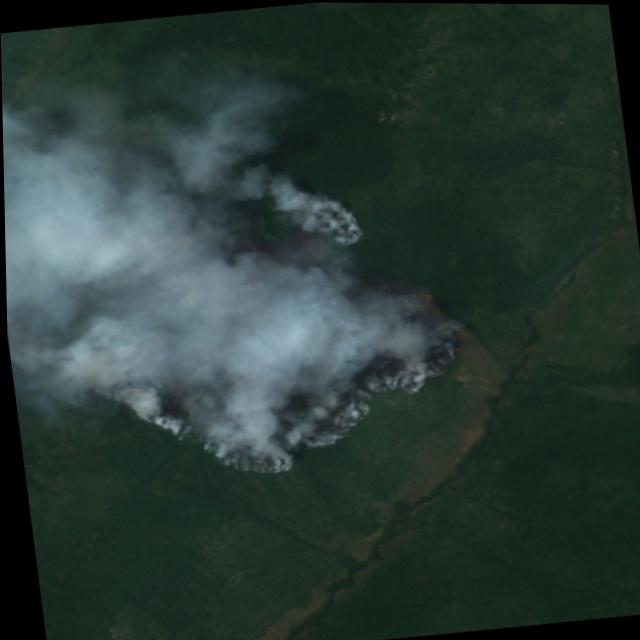fire: (96, 175, 496, 498)
